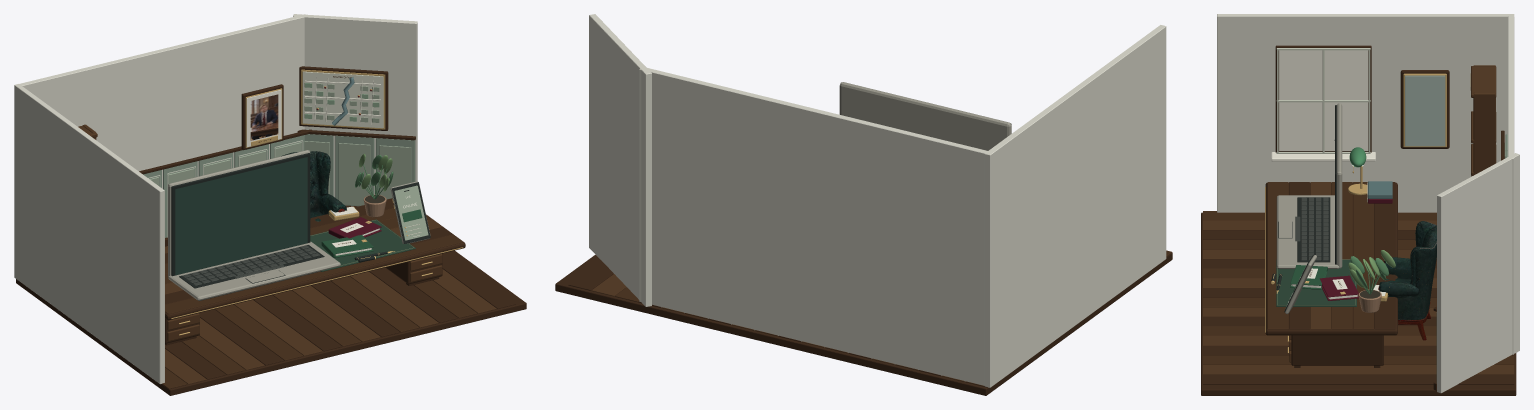
File: office.glb
3 views of the same model, side by side, from view 1: azimuth 30°, elevation 25°; view 2: azimuth 150°, elevation 25°; view 3: azimuth 270°, elevation 25° (orthographic). The views are drawn at different scales.
Visible parts, largest first — view 1: Room / Warm ivory plaster, Room / Dark walnut, Laptop / Laptop dark green glass, Room / Walnut variation, Room / Walnut heartwood, Room / Panel inset, Laptop / Champagne anodised alloy, Room / Sage wall panels, CityMap / Map parchment, Laptop / Black lacquer, Laptop / Keycaps graphite, TripoChair / tripo_material_12dc6063-7ee7-4e71-881e-1b50bdf9 (+15 smaller); view 2: Room / Warm ivory plaster, Room / Dark walnut, Laptop / Champagne anodised alloy, Room / Walnut heartwood; view 3: Room / Warm ivory plaster, Room / Dark walnut, Room / Walnut variation, Room / Cotton paper, Room / Walnut heartwood, TripoChair / tripo_material_12dc6063-7ee7-4e71-881e-1b50bdf9, Laptop / Champagne anodised alloy, Mirror / Mirror silver, Bookshelf / Walnut heartwood, Laptop / Keycaps graphite, Room / Deep olive leather, Room / Ivory joinery (+11 smaller).
Boxes of the visible parts, x1,y1,x2,y2 form: Room / Warm ivory plaster: (14, 14, 417, 384); Room / Dark walnut: (16, 129, 526, 395); Laptop / Laptop dark green glass: (175, 157, 307, 275); Room / Walnut variation: (162, 208, 477, 388); Room / Walnut heartwood: (165, 219, 496, 384); Room / Panel inset: (149, 141, 411, 205); Laptop / Champagne anodised alloy: (168, 150, 340, 300); Room / Sage wall panels: (143, 134, 415, 237); CityMap / Map parchment: (302, 71, 383, 128); Laptop / Black lacquer: (171, 153, 324, 300); Laptop / Keycaps graphite: (182, 245, 319, 285); TripoChair / tripo_material_12dc6063-7ee7-4e71-881e-1b50bdf9: (281, 151, 346, 221); Room / Warm ivory plaster: (589, 14, 1166, 387); Room / Dark walnut: (555, 252, 1172, 395); Laptop / Champagne anodised alloy: (839, 82, 1011, 150); Room / Walnut heartwood: (591, 274, 964, 381); Room / Warm ivory plaster: (1217, 14, 1519, 393); Room / Dark walnut: (1201, 45, 1516, 395); Room / Walnut variation: (1203, 182, 1514, 364); Room / Cotton paper: (1271, 50, 1385, 296); Room / Walnut heartwood: (1203, 182, 1514, 374); TripoChair / tripo_material_12dc6063-7ee7-4e71-881e-1b50bdf9: (1378, 221, 1436, 340); Laptop / Champagne anodised alloy: (1276, 103, 1342, 268); Mirror / Mirror silver: (1405, 75, 1445, 146); Bookshelf / Walnut heartwood: (1471, 65, 1496, 176); Laptop / Keycaps graphite: (1295, 197, 1328, 260); Room / Deep olive leather: (1276, 259, 1356, 306); Room / Ivory joinery: (1276, 48, 1370, 153).
Bounding box in the file's own units: 12.37 × 6.42 × 9.1.
32 materials, 2 textured.
